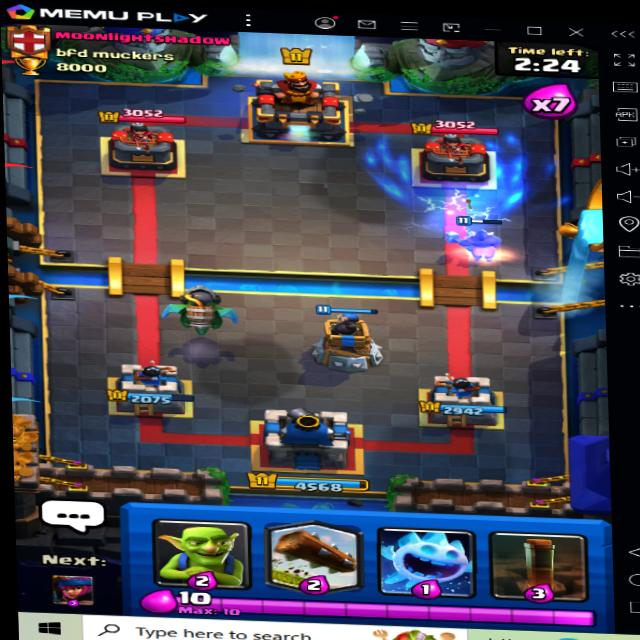lightning: (371, 142, 555, 232)
